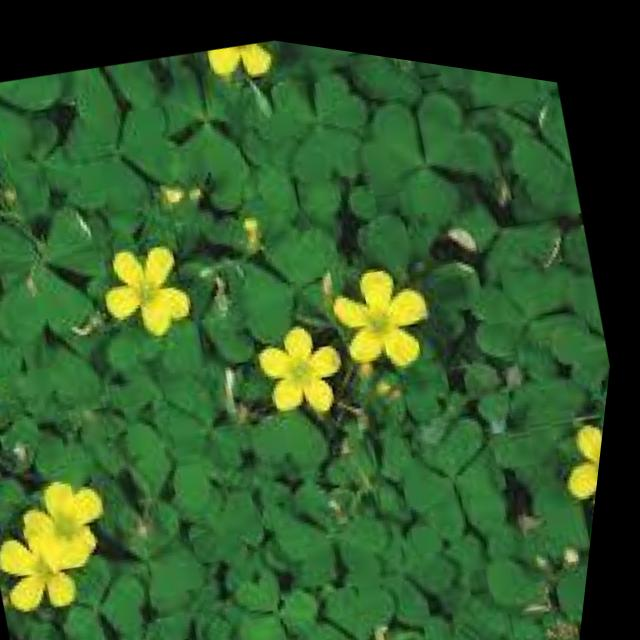Flower: (322, 234, 464, 386), (239, 296, 369, 429), (13, 451, 131, 582), (96, 224, 213, 352), (6, 504, 120, 630), (544, 381, 613, 508), (208, 25, 289, 88)
